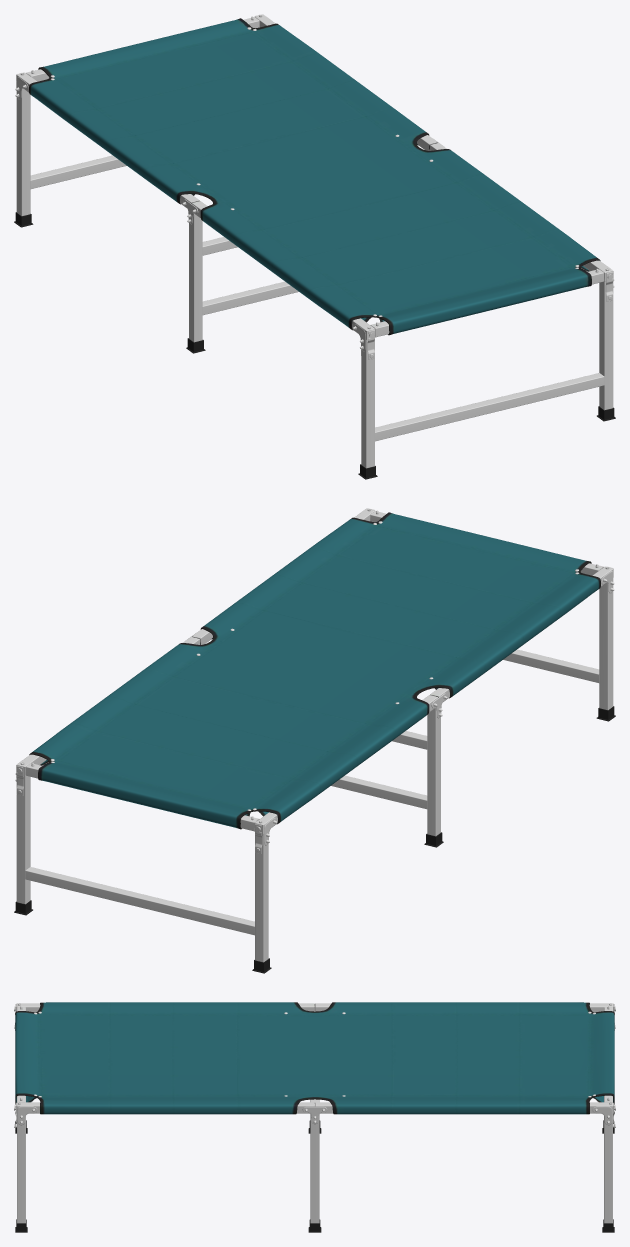
File: steel-cot-2.glb
3 views of the same model, one above another, from view 1: azimuth 30°, elevation 25°; view 2: azimuth 150°, elevation 25°; view 3: azimuth 270°, elevation 25° (orthographic). The views are drawn at different scales.
Visible parts, largest first — view 1: polySurface13; view 2: polySurface13; view 3: polySurface13.
Boxes of the visible parts, left/top/right/bottom form: polySurface13: left=14, top=14, right=615, bottom=479; polySurface13: left=14, top=508, right=615, bottom=973; polySurface13: left=14, top=1002, right=615, bottom=1232.
Bounding box in the file's own units: 0.762 × 0.4318 × 1.83.
1 material, 1 textured.
